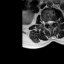CCS_normal: (49, 18, 51, 27)
LFS_normal: (53, 17, 56, 24)
LLS_normal: (51, 18, 53, 25)
RFS_normal: (45, 18, 47, 26)
RLS_normal: (47, 18, 49, 26)
